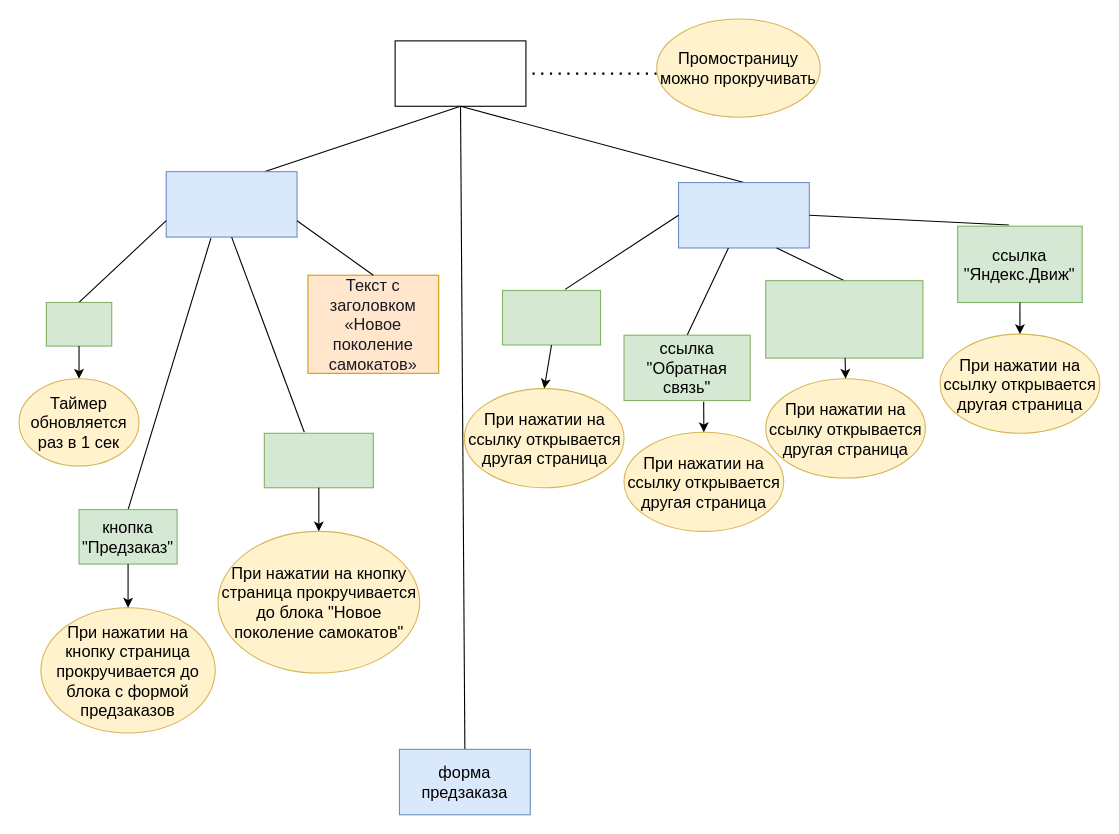
Some shapes in this 1119 by 834 pixel diagram are drawn without their labels. Each missing label, with the box of its shape:
верхний блок: (165, 171, 297, 237)
кнопка "Подробнее": (263, 432, 373, 488)
нижний блок: (677, 181, 809, 248)
ссылка "Пользовательское соглашение": (765, 280, 923, 358)
ссылка "Язык": (501, 289, 601, 345)
таймер: (45, 301, 112, 346)
Яндекс.Самокат функциональность: (394, 40, 526, 106)
